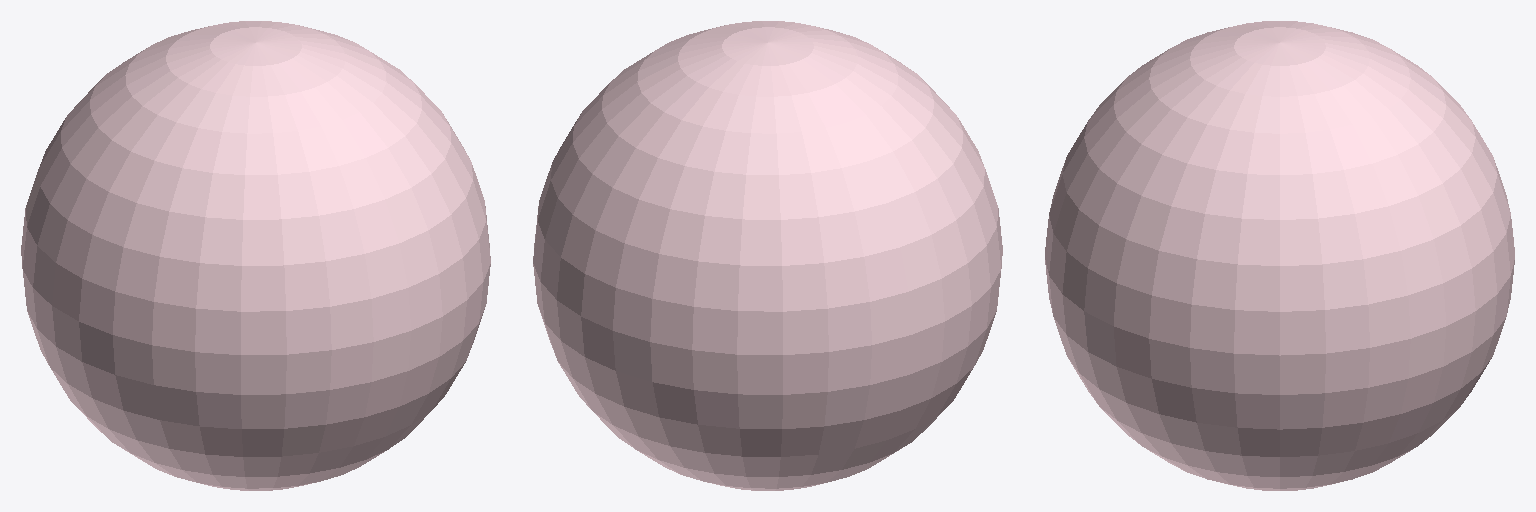
Rendered from Explosion1.obj.
3 renders of one model, left to right at view 1: azimuth 30°, elevation 25°; view 2: azimuth 150°, elevation 25°; view 3: azimuth 270°, elevation 25°, orthographic.
Parts seen in each view (by area): view 1: 球.001; view 2: 球.001; view 3: 球.001.
Boxes of the visible parts, x1,y1,x2,y2 form: 球.001: [21, 21, 490, 490]; 球.001: [533, 21, 1002, 490]; 球.001: [1045, 21, 1514, 490].
Size of the model in its own units: 7.81 by 7.81 by 7.81.